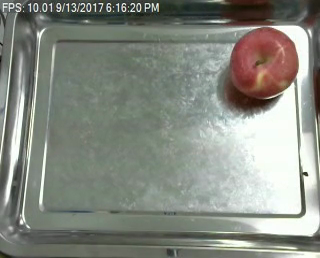Apple: (228, 27, 300, 100)
